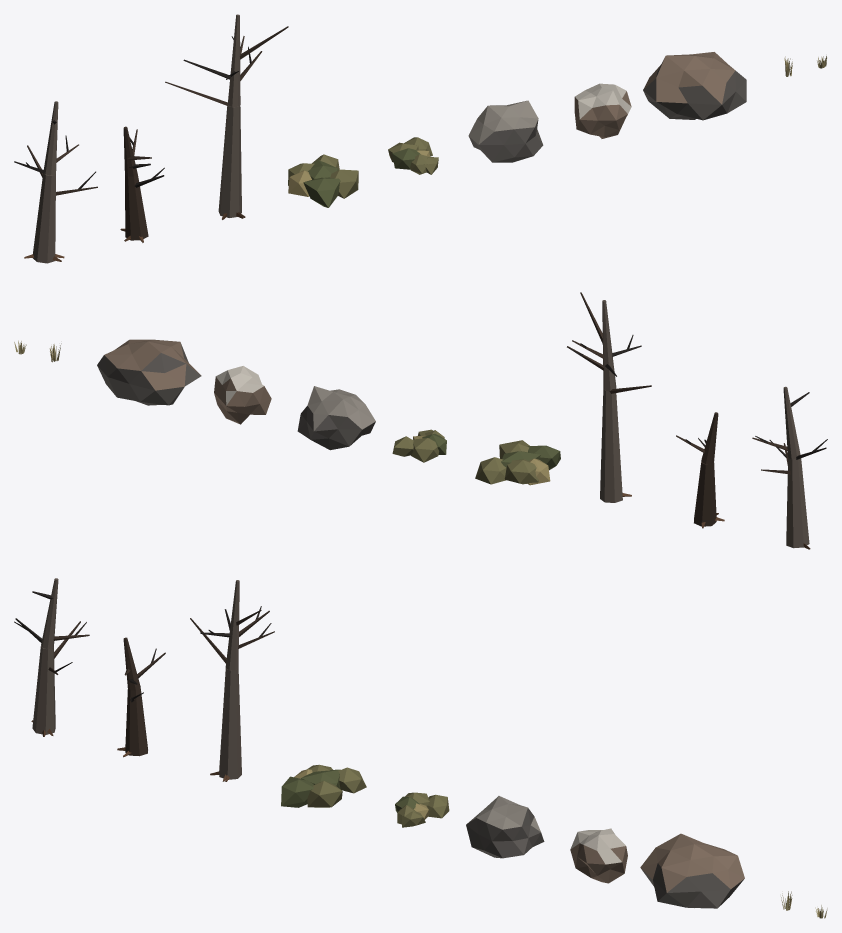
The model's file is zone1-kit.glb.
3 views of the same model, one above another, from view 1: azimuth 30°, elevation 25°; view 2: azimuth 150°, elevation 25°; view 3: azimuth 330°, elevation 25° (orthographic).
Parts seen in each view (by area): view 1: boulder_c, tree_dead_c, boulder_a, tree_dead_a, bush_scrub_a, boulder_b, tree_dead_b, bush_scrub_b; view 2: boulder_c, tree_dead_c, boulder_a, tree_dead_a, bush_scrub_a, boulder_b, tree_dead_b, bush_scrub_b; view 3: boulder_c, tree_dead_c, boulder_a, tree_dead_a, bush_scrub_a, boulder_b, tree_dead_b, bush_scrub_b.
Boxes of the visible parts, box(x1,y1,x2,y2) form: boulder_c: box(643, 52, 746, 120); tree_dead_c: box(165, 14, 288, 219); boulder_a: box(468, 100, 543, 162); tree_dead_a: box(14, 101, 97, 263); bush_scrub_a: box(288, 154, 358, 207); boulder_b: box(574, 83, 631, 138); tree_dead_b: box(120, 126, 164, 242); bush_scrub_b: box(388, 137, 438, 174); boulder_c: box(97, 339, 201, 405); tree_dead_c: box(567, 292, 651, 502); boulder_a: box(297, 386, 375, 450); tree_dead_a: box(752, 386, 827, 549); bush_scrub_a: box(475, 440, 560, 485); boulder_b: box(214, 366, 271, 424); tree_dead_b: box(676, 412, 724, 528); bush_scrub_b: box(392, 429, 446, 462); boulder_c: box(640, 833, 744, 908); tree_dead_c: box(190, 580, 274, 781); boulder_a: box(466, 796, 544, 858); tree_dead_a: box(14, 578, 89, 736); bush_scrub_a: box(281, 764, 366, 807); boulder_b: box(570, 828, 627, 883); tree_dead_b: box(117, 637, 165, 757); bush_scrub_b: box(395, 792, 449, 827).
Size of the model in its own units: 28 by 7.12 by 3.22.
1 material, 1 textured.
